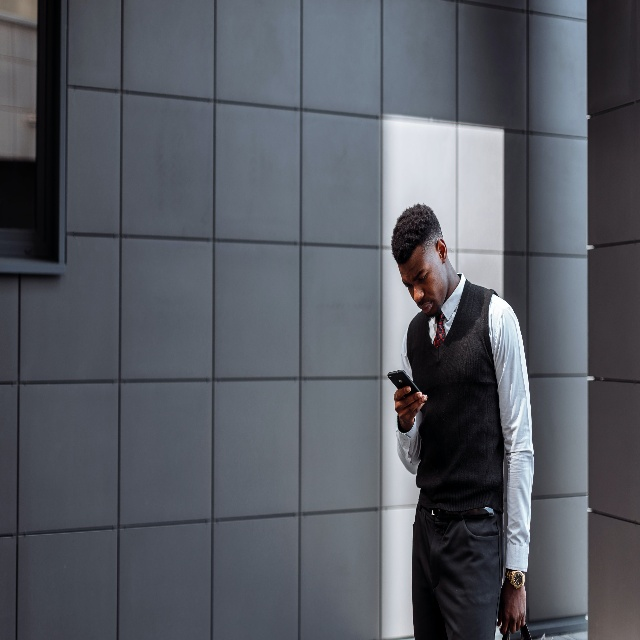Sin_guantes: (498, 578, 527, 635), (392, 381, 427, 420)
